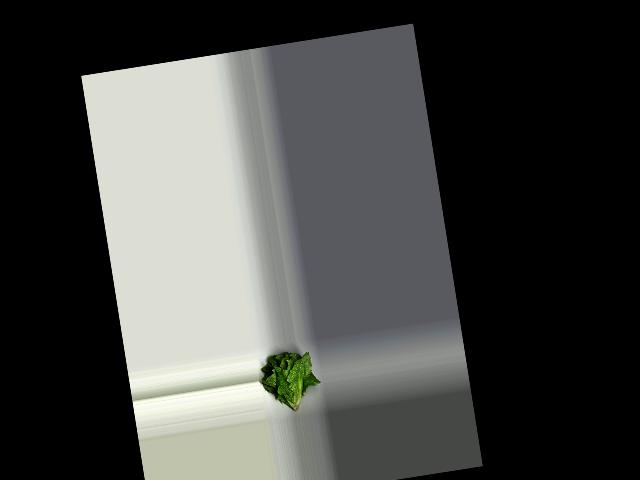lettuce: (257, 345, 318, 417)
